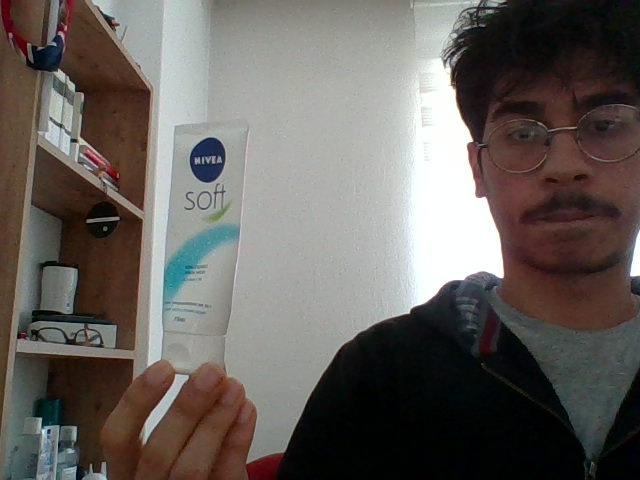NiveaSoft: (162, 125, 250, 346)
